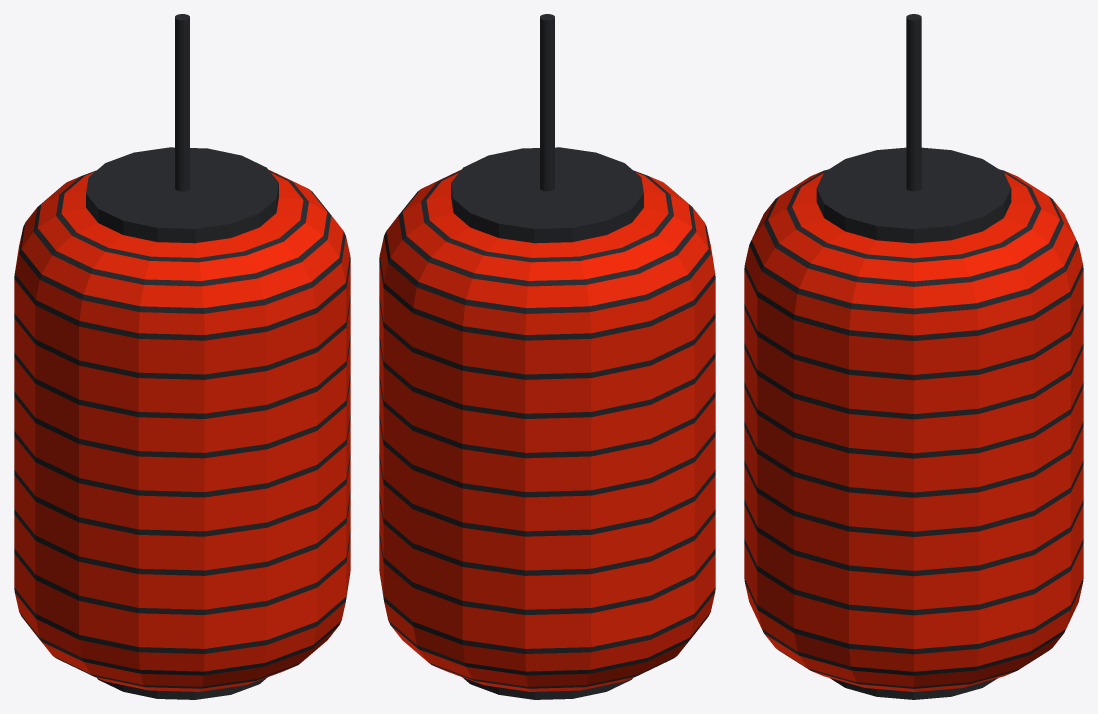
File: Lantern_3.fbx
The picture shows the model from 3 angles, left to right: view 1: azimuth 30°, elevation 25°; view 2: azimuth 150°, elevation 25°; view 3: azimuth 270°, elevation 25°; orthographic projection.
Parts seen in each view (by area): view 1: Lantern_3; view 2: Lantern_3; view 3: Lantern_3.
Part boxes in pixels (x1,y1,x2,y2): Lantern_3: [14, 14, 350, 699]; Lantern_3: [379, 14, 715, 699]; Lantern_3: [744, 14, 1083, 699].
Bounding box in the file's own units: 39.32 × 82.04 × 39.32.
